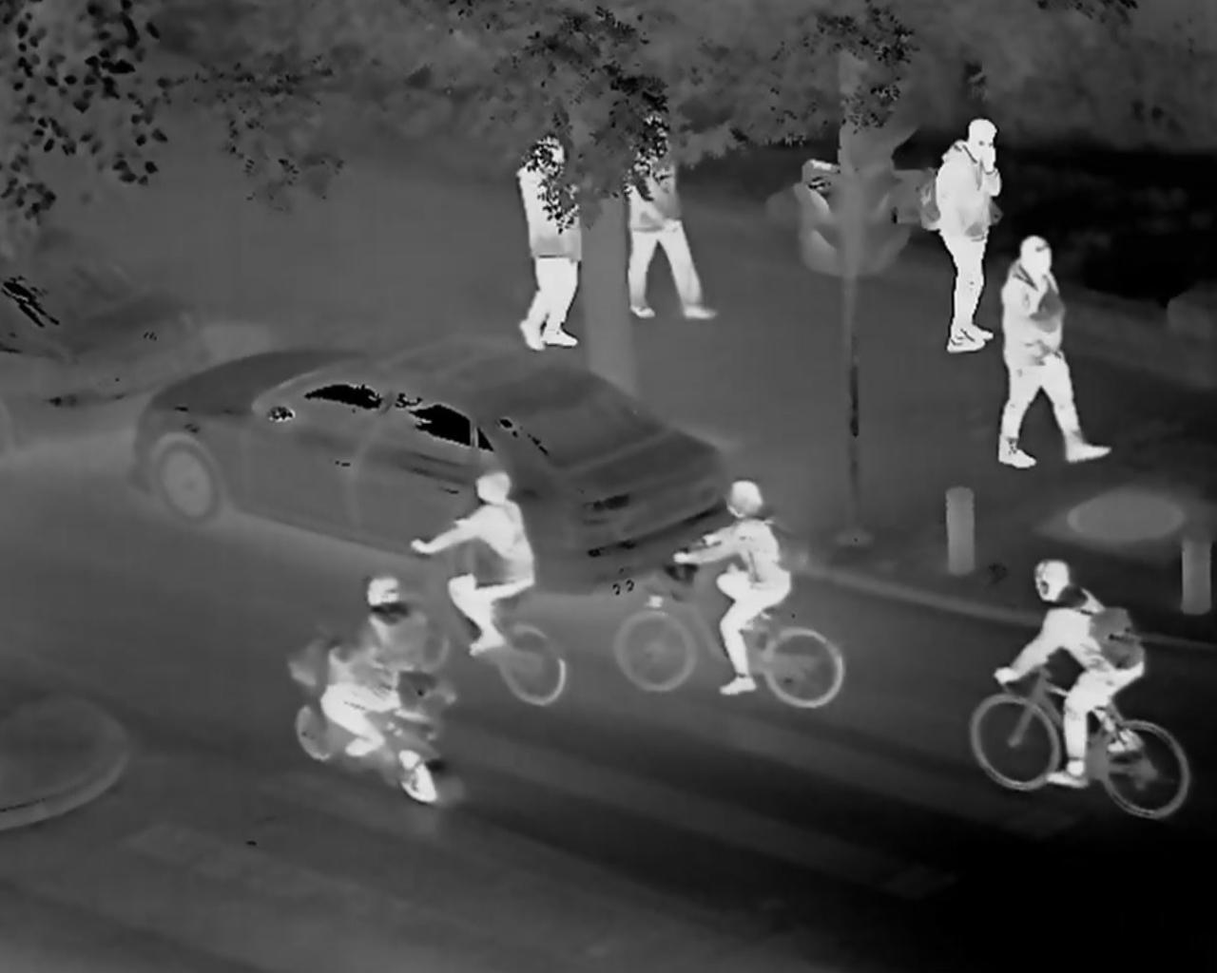person: (987, 560, 1146, 800), (674, 477, 794, 706), (999, 233, 1113, 462), (418, 468, 538, 663), (302, 579, 429, 756), (621, 110, 710, 326), (918, 117, 996, 350), (510, 137, 580, 352)
